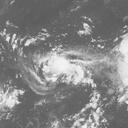cyclone: (43, 52, 79, 84)
